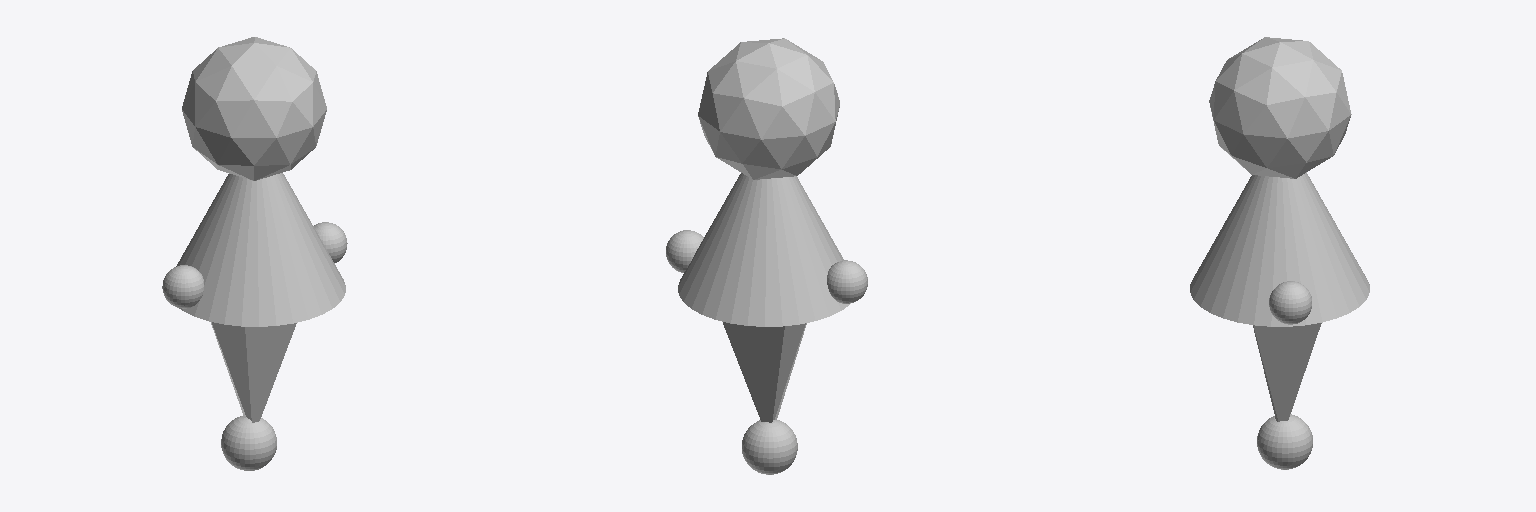
Rendered from Object Maincharacter.obj.
3 views of the same model, side by side, from view 1: azimuth 30°, elevation 25°; view 2: azimuth 150°, elevation 25°; view 3: azimuth 270°, elevation 25° (orthographic).
Parts seen in each view (by area): view 1: Cone, Icosphere, Cube, Sphere.002_Sphere, Sphere_Sphere.001, Sphere.001_Sphere.002; view 2: Cone, Icosphere, Cube, Sphere.002_Sphere, Sphere_Sphere.001, Sphere.001_Sphere.002; view 3: Cone, Icosphere, Cube, Sphere.002_Sphere, Sphere.001_Sphere.002.
Boxes of the visible parts, x1,y1,x2,y2 form: Cone: [176, 173, 345, 326]; Icosphere: [182, 37, 326, 180]; Cube: [211, 322, 296, 422]; Sphere.002_Sphere: [221, 416, 276, 470]; Sphere_Sphere.001: [162, 265, 203, 308]; Sphere.001_Sphere.002: [314, 222, 347, 262]; Cone: [678, 173, 850, 326]; Icosphere: [698, 38, 839, 179]; Cube: [723, 322, 806, 422]; Sphere.002_Sphere: [742, 420, 797, 474]; Sphere_Sphere.001: [827, 260, 867, 303]; Sphere.001_Sphere.002: [666, 230, 703, 272]; Cone: [1190, 172, 1369, 326]; Icosphere: [1209, 37, 1351, 178]; Cube: [1253, 323, 1321, 421]; Sphere.002_Sphere: [1257, 414, 1312, 469]; Sphere.001_Sphere.002: [1269, 281, 1311, 324].
Size of the model in its own units: 4.76 by 10.34 by 3.95.